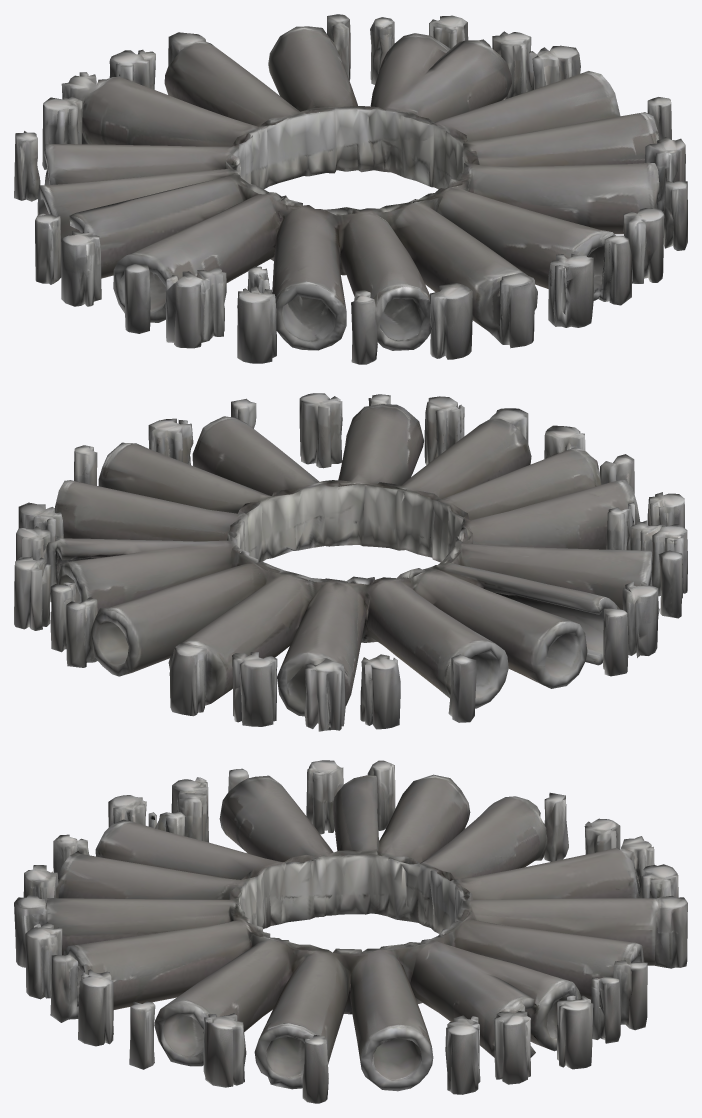
The model's file is multistream_pipe.glb.
3 renders of one model, top to bottom at view 1: azimuth 30°, elevation 25°; view 2: azimuth 150°, elevation 25°; view 3: azimuth 270°, elevation 25°, orthographic. The views are drawn at different scales.
Size of the model in its own units: 2 by 0.2112 by 2.
1 material, 1 textured.
